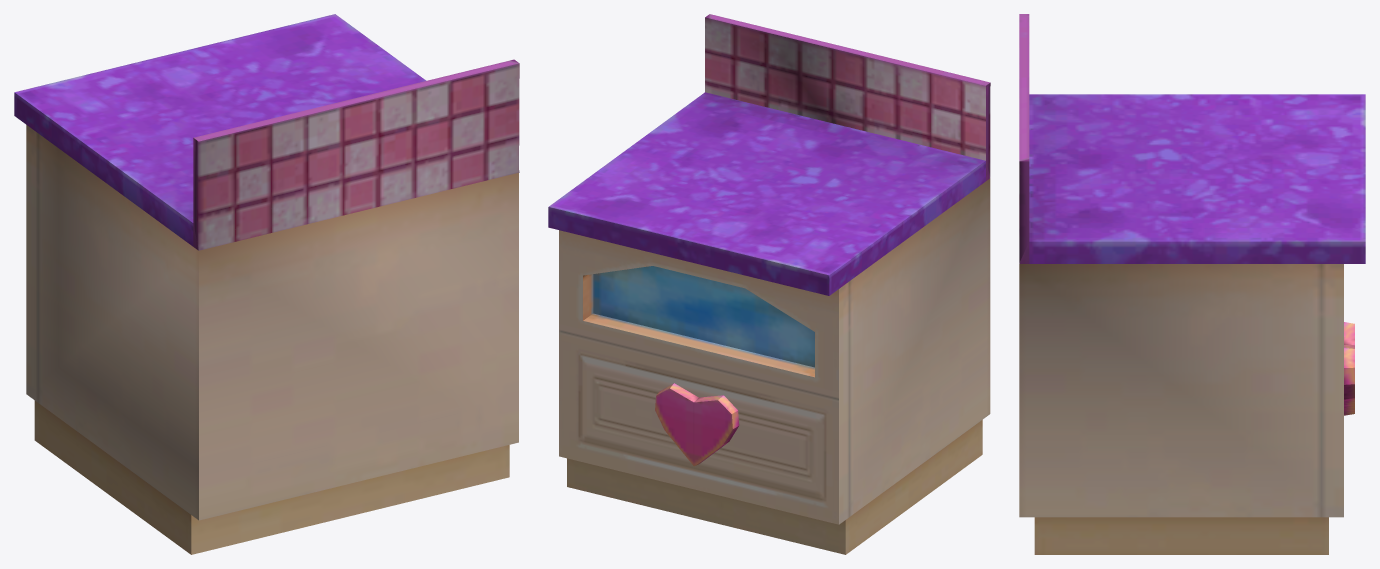
File: furni_0200019_01.FBX
The picture shows the model from 3 angles, left to right: view 1: azimuth 30°, elevation 25°; view 2: azimuth 150°, elevation 25°; view 3: azimuth 270°, elevation 25°; orthographic projection. The views are drawn at different scales.
Parts seen in each view (by area): view 1: furni_0200019_01; view 2: furni_0200019_01; view 3: furni_0200019_01.
Boxes of the visible parts, box(x1,y1,x2,y2) form: furni_0200019_01: box(14, 14, 519, 554); furni_0200019_01: box(548, 14, 990, 554); furni_0200019_01: box(1019, 14, 1365, 554).
Bounding box in the file's own units: 80.42 × 100 × 80.
